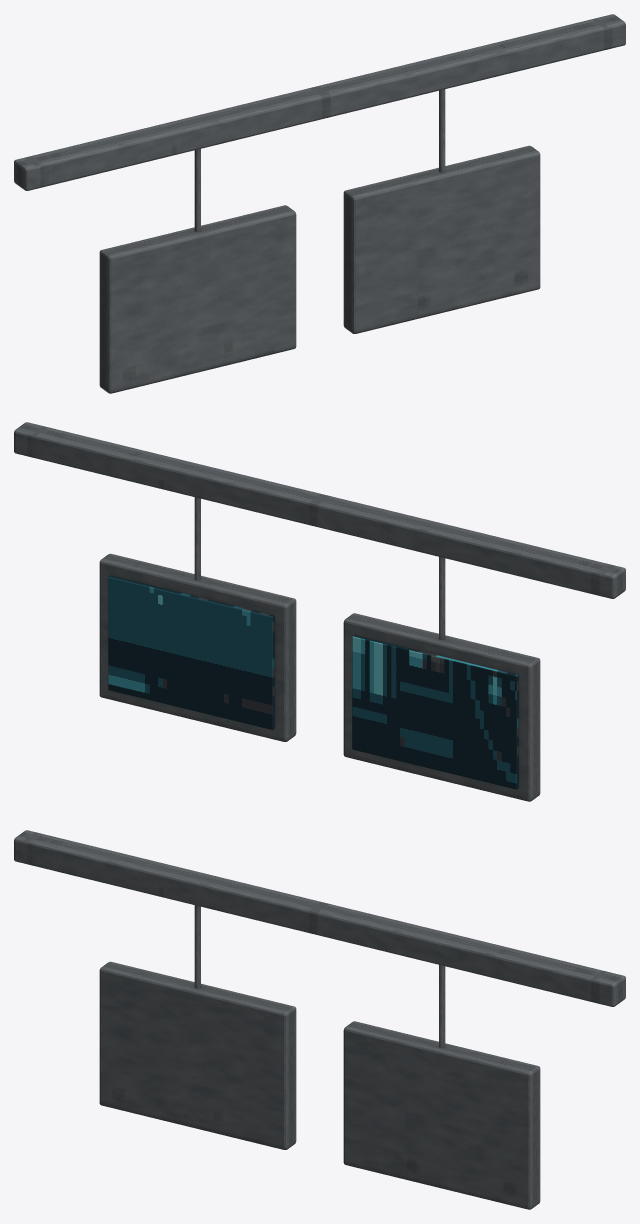
The model's file is base_hanging_screens_pair.glb.
3 views of the same model, one above another, from view 1: azimuth 30°, elevation 25°; view 2: azimuth 150°, elevation 25°; view 3: azimuth 330°, elevation 25° (orthographic).
Parts seen in each view (by area): view 1: base_hanging_screens_pair; view 2: base_hanging_screens_pair; view 3: base_hanging_screens_pair.
Boxes of the visible parts, <box> form: base_hanging_screens_pair: <box>14,14,625,393</box>; base_hanging_screens_pair: <box>14,422,625,801</box>; base_hanging_screens_pair: <box>14,830,625,1209</box>.
Bounding box in the file's own units: 3.2 × 1.26 × 0.13.
2 materials, 2 textured.
